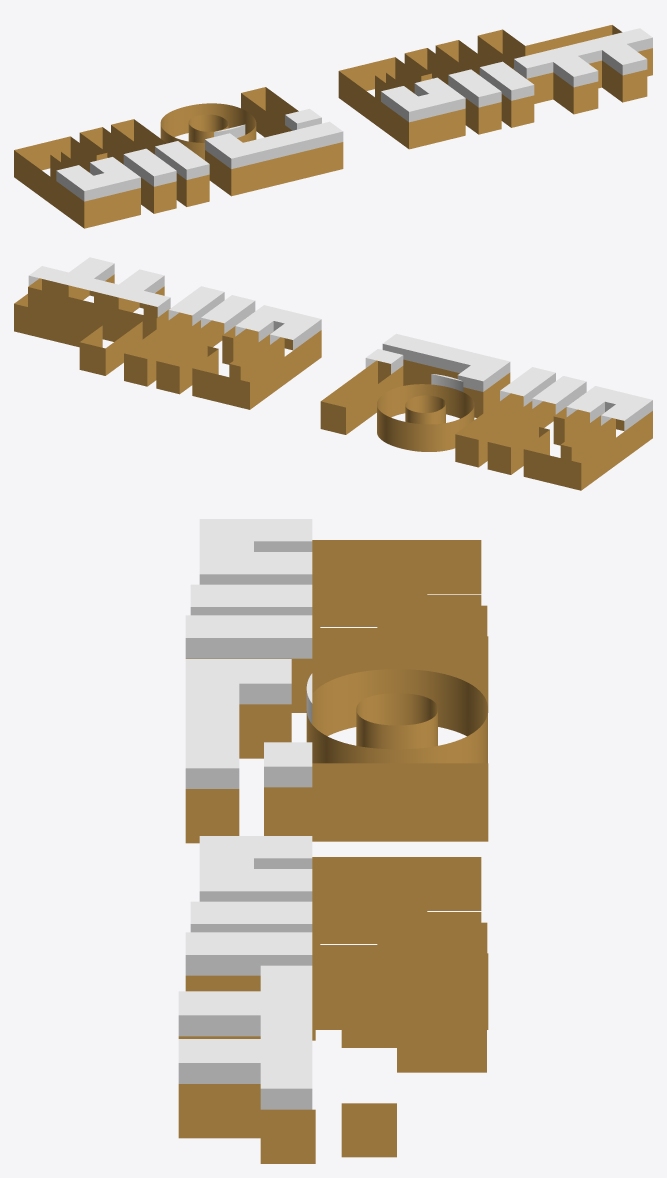
File: main2.FBX
3 renders of one model, top to bottom at view 1: azimuth 30°, elevation 25°; view 2: azimuth 150°, elevation 25°; view 3: azimuth 270°, elevation 25°, orthographic. The views are drawn at different scales.
Parts seen in each view (by area): view 1: Text011; view 2: Text011; view 3: Text011.
Boxes of the visible parts, x1,y1,x2,y2 form: Text011: [14, 25, 652, 228]; Text011: [14, 257, 652, 490]; Text011: [178, 519, 488, 1163].
Size of the model in its own units: 6.45 by 0.3966 by 1.48.
